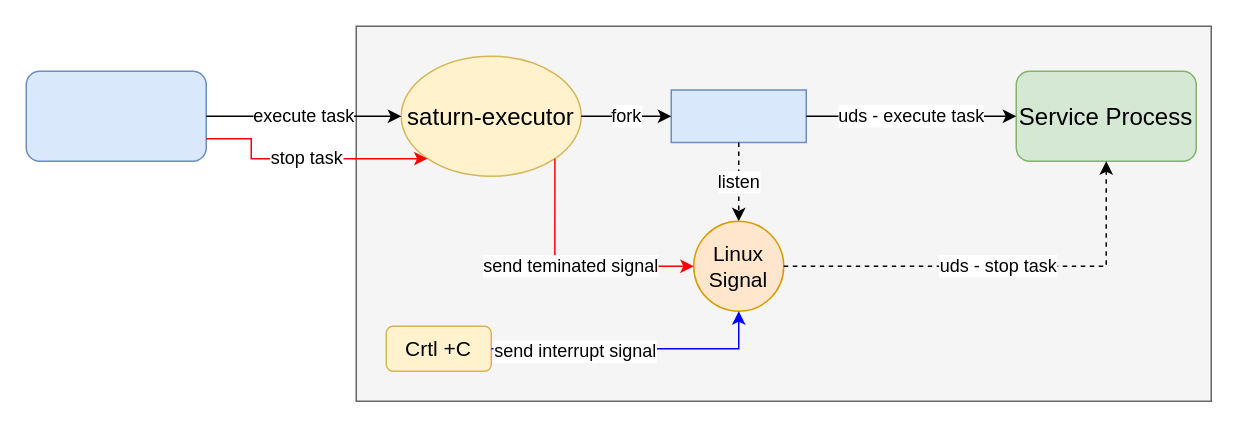
Some shapes in this 1238 by 428 pixel diagram are drawn without their labels. The centre of each missing label's shape, as x and y in pixels:
"saturn-cli bin" goes at (738,115).
"saturn-console" goes at (115,115).
